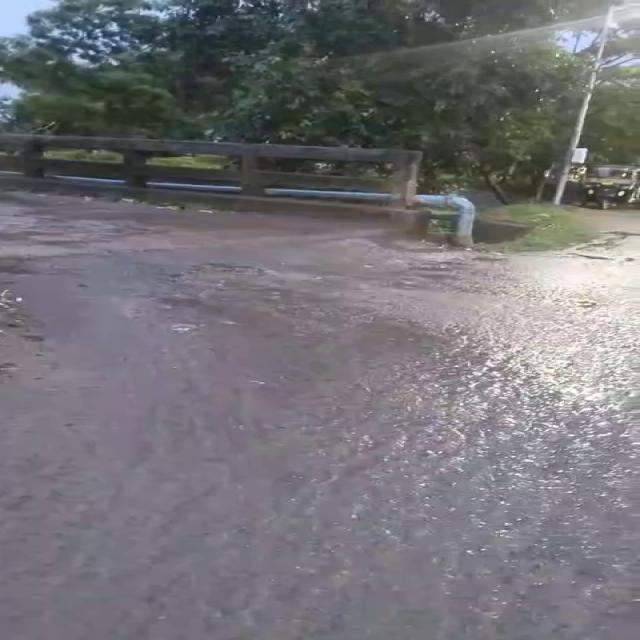pothole: (161, 260, 275, 288), (124, 294, 204, 319)
